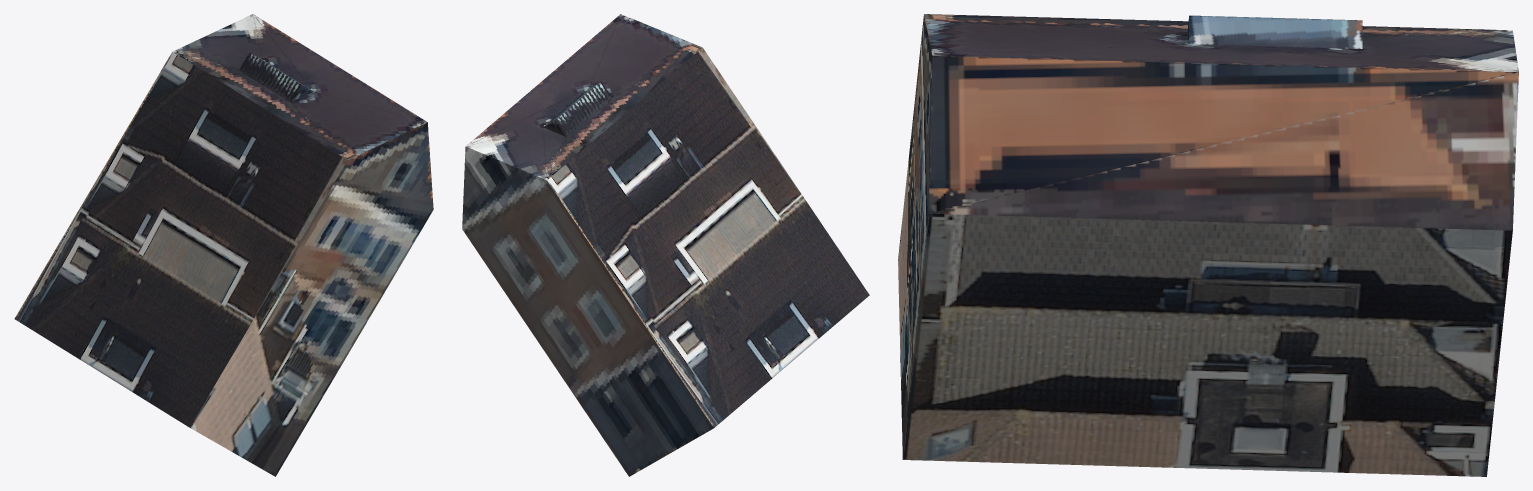
The picture shows the model from 3 angles, left to right: view 1: azimuth 30°, elevation 25°; view 2: azimuth 150°, elevation 25°; view 3: azimuth 270°, elevation 25°; orthographic projection. The views are drawn at different scales.
Visible parts, largest first — view 1: BAG_0599100000688735 (×4); view 2: BAG_0599100000688735 (×4); view 3: BAG_0599100000688735 (×4).
Boxes of the visible parts, x1,y1,x2,y2 form: BAG_0599100000688735 (×4): [14, 14, 433, 476]; BAG_0599100000688735 (×4): [462, 14, 869, 476]; BAG_0599100000688735 (×4): [898, 14, 1518, 476].
Bounding box in the file's own units: 10.79 × 12.79 × 12.76.
1 material, 1 textured.
